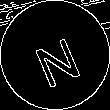N_NW: (26, 24, 84, 86)
